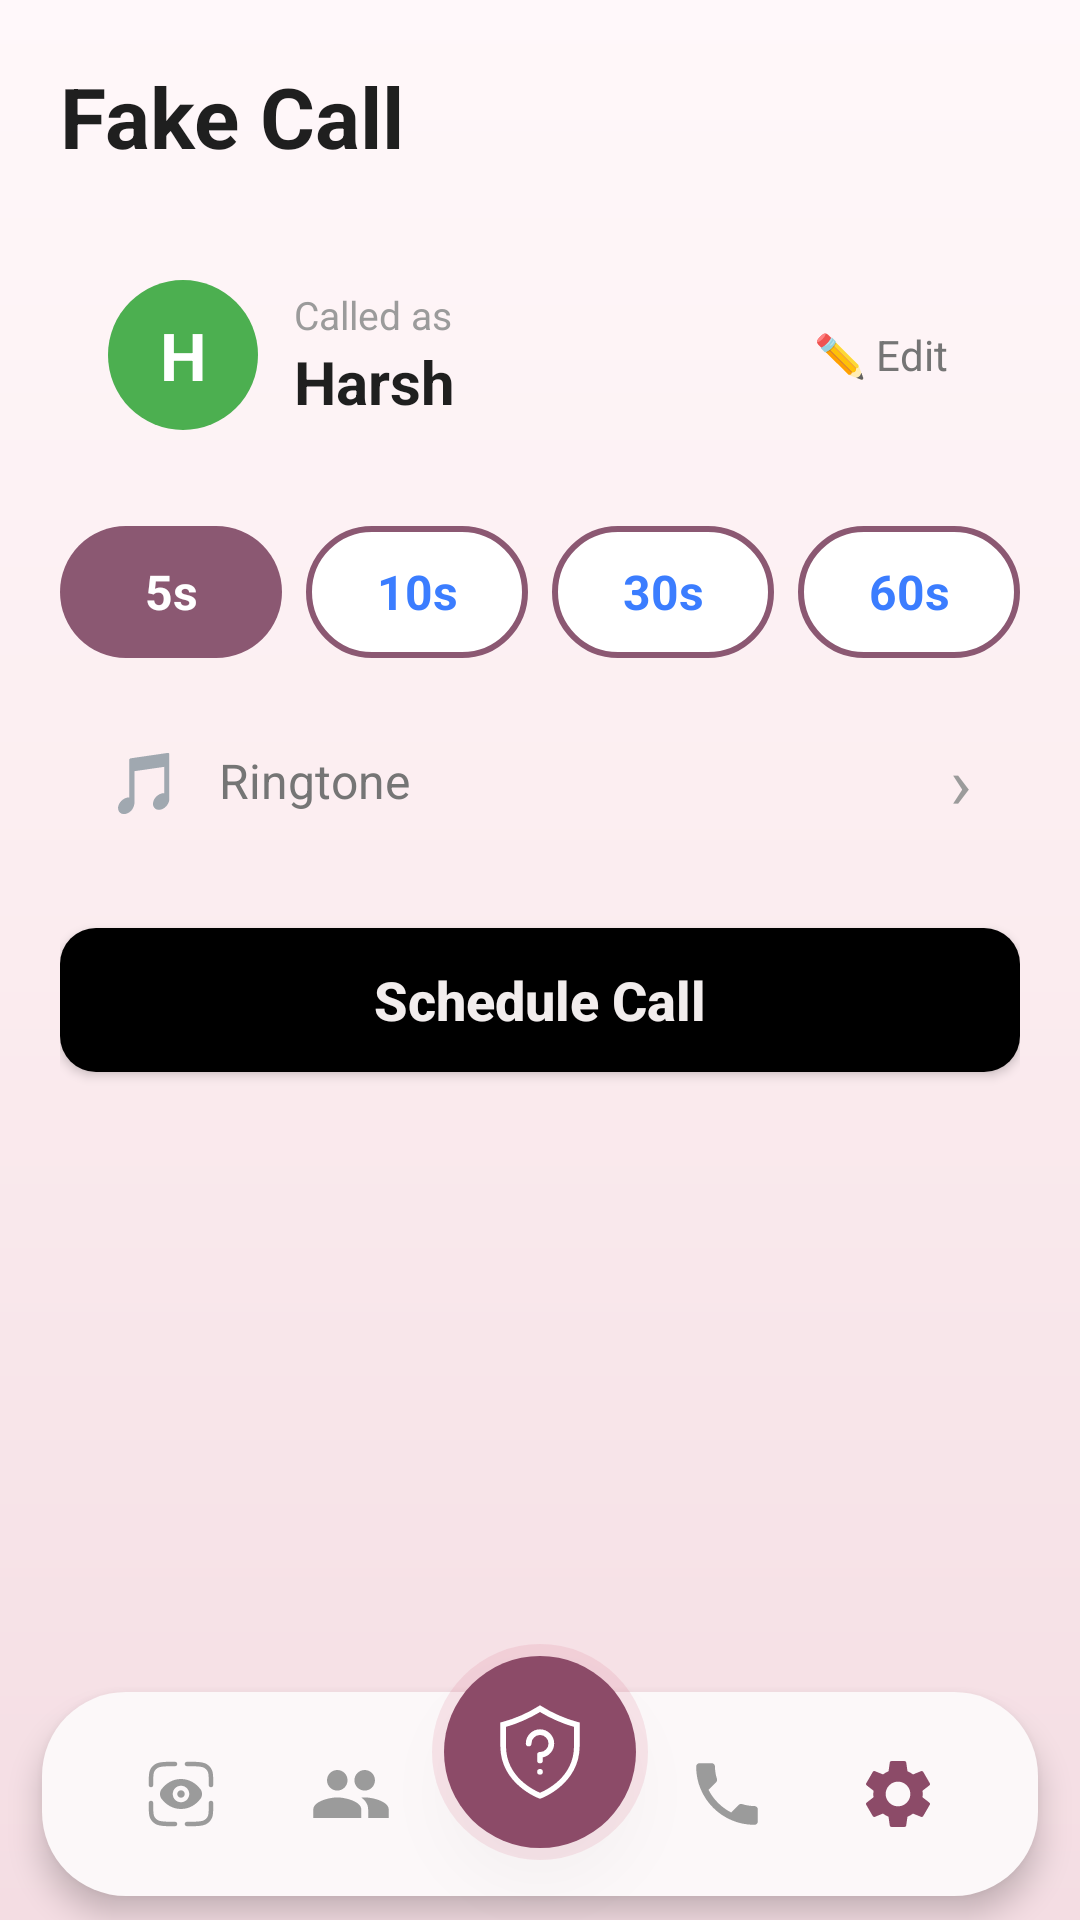

Icons on this 1080 x 1920 Android screen, each with its box as rect(x1, y1, x2, y2):
Call: rect(696, 1763, 758, 1825)
Contacts: rect(313, 1770, 389, 1818)
Evidence: rect(149, 1762, 213, 1826)
Settings: rect(866, 1761, 930, 1827)
